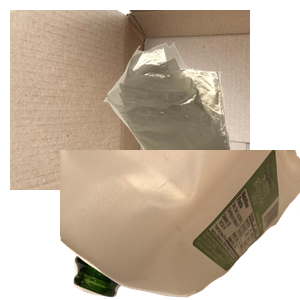cardboard: (10, 10, 250, 190)
glass: (71, 152, 260, 300)
plastic: (60, 150, 300, 300)
trash: (101, 40, 300, 192)
